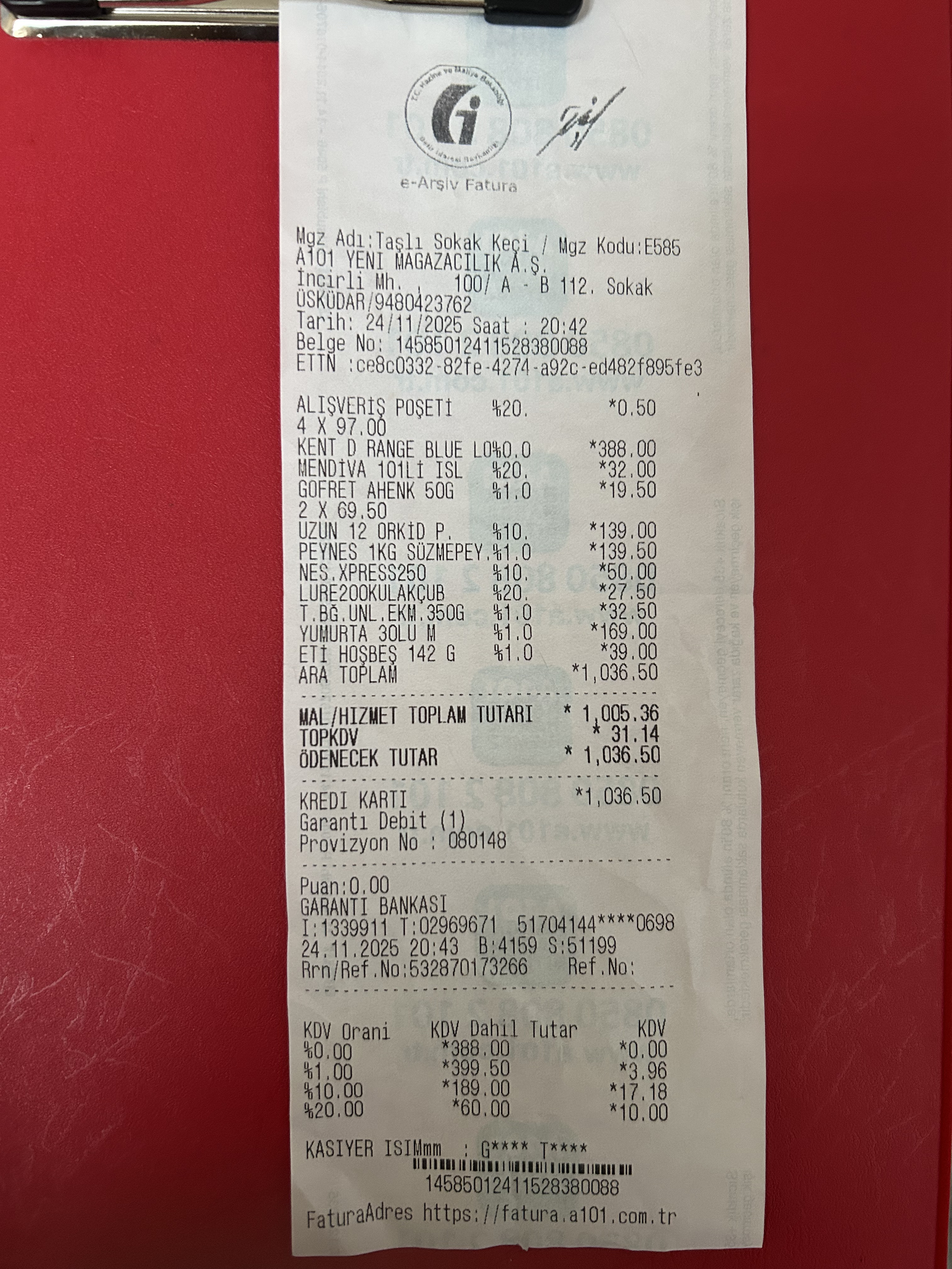date: (361, 310, 467, 336)
price: (577, 740, 668, 770)
workplace: (290, 219, 692, 298)
